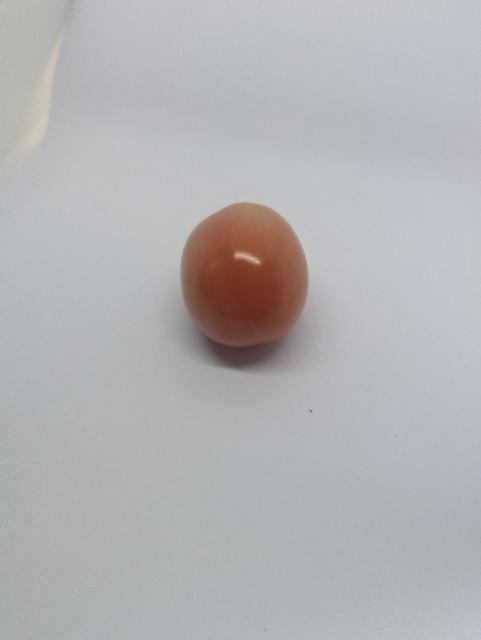red: (173, 195, 321, 363)
